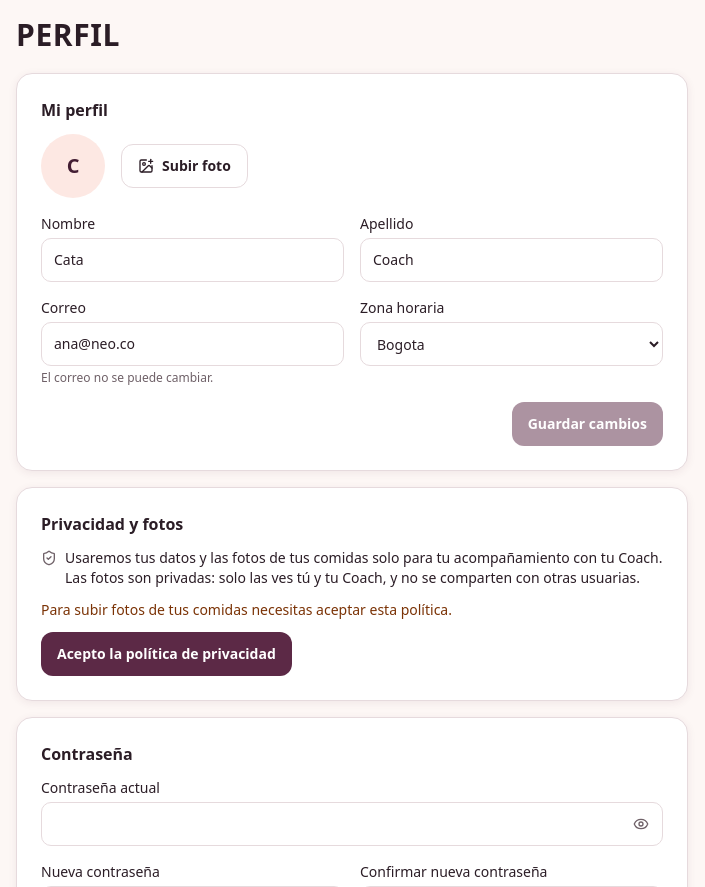
Test: perfil, privacidad y contraseña (HU-24, HU-28) › aceptar la política desde el perfil registra el consentimiento y oculta el botón
Expected: the text "necesitas aceptar esta política" is shown, [41,600,452,619]
Click the button "Acepto la política de privacidad" at x=166, y=654, box [41,632,292,676]
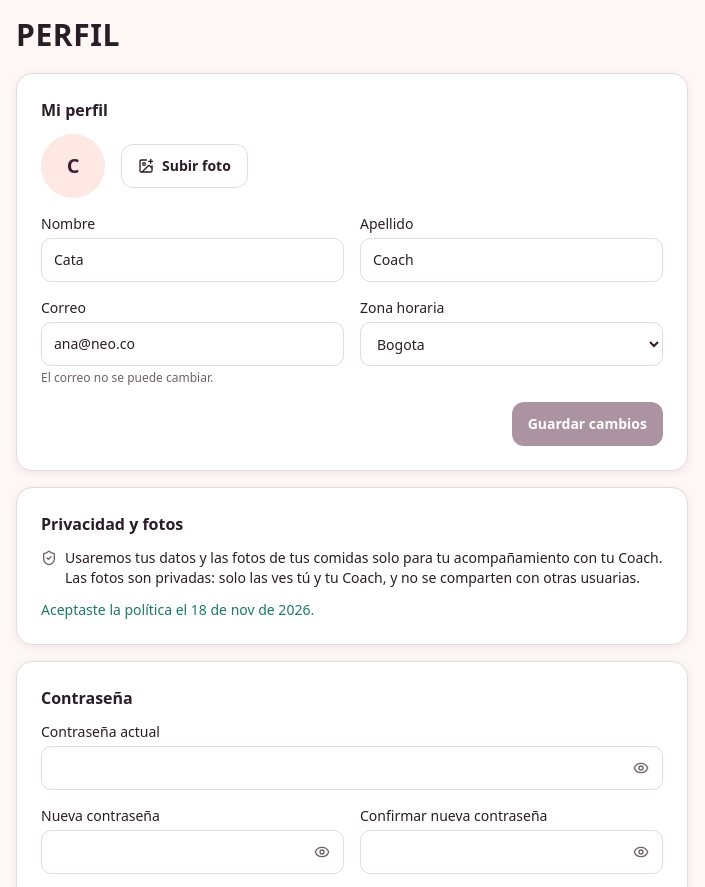
Now the text "Aceptaste la política el 18 de nov de 2026." is shown, box [41,600,314,619]
Now the button "Acepto la política de privacidad" is gone
